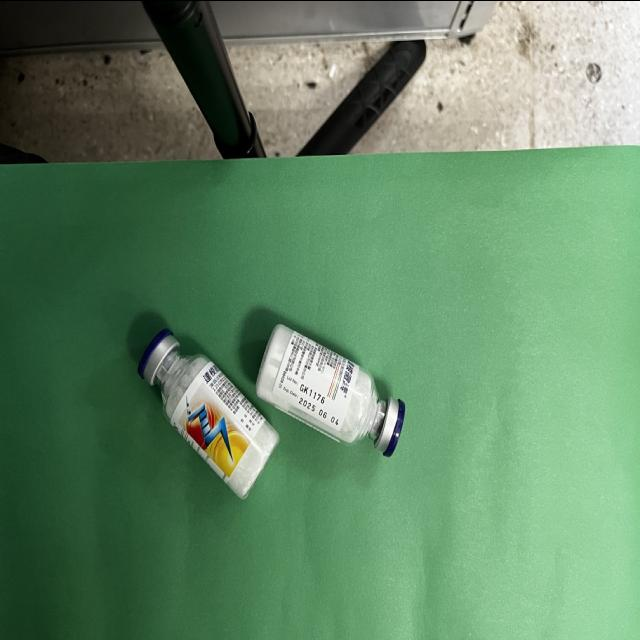Vials: (138, 328, 278, 497), (256, 323, 406, 455)
